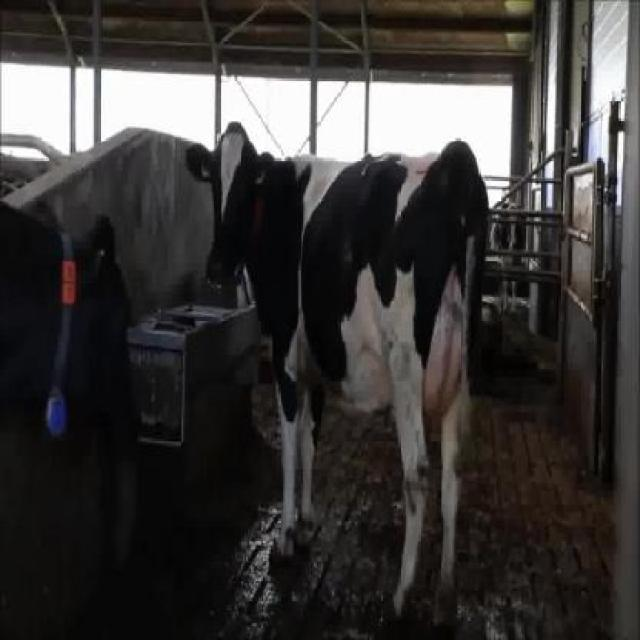Cow: (184, 119, 490, 638), (0, 195, 134, 448)
